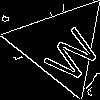W: (35, 20, 100, 86)
